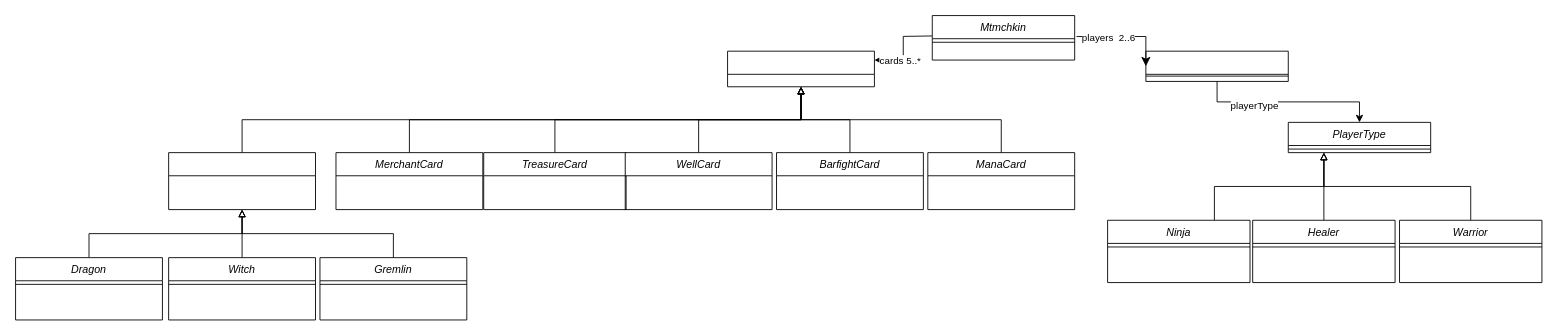
Image size: 1558x336. Some labels were removed from this diagram. The shapes that lost their labels are listed below. From the top down, each one's centre as x and y in pixels, then its label:
At pixel 800 68: "Card".
At pixel 1216 65: "Player".
At pixel 242 181: "BattleCard".
